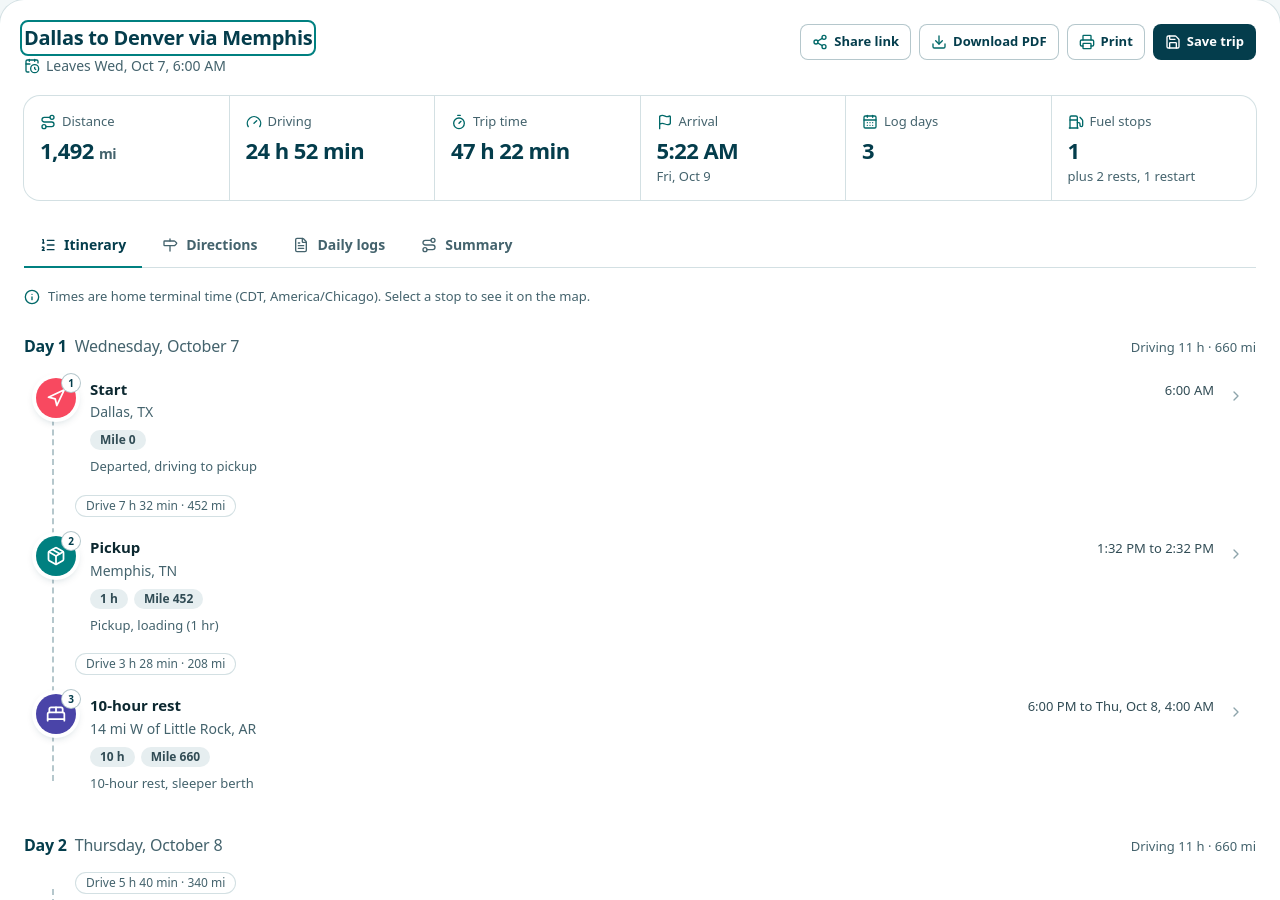
Test: summary tab › explains a restart and counts only hours since it
This screenshot has width=1280, height=900.
Click the tab with test id "tab-summary" at [467, 246], box [405, 224, 528, 268]
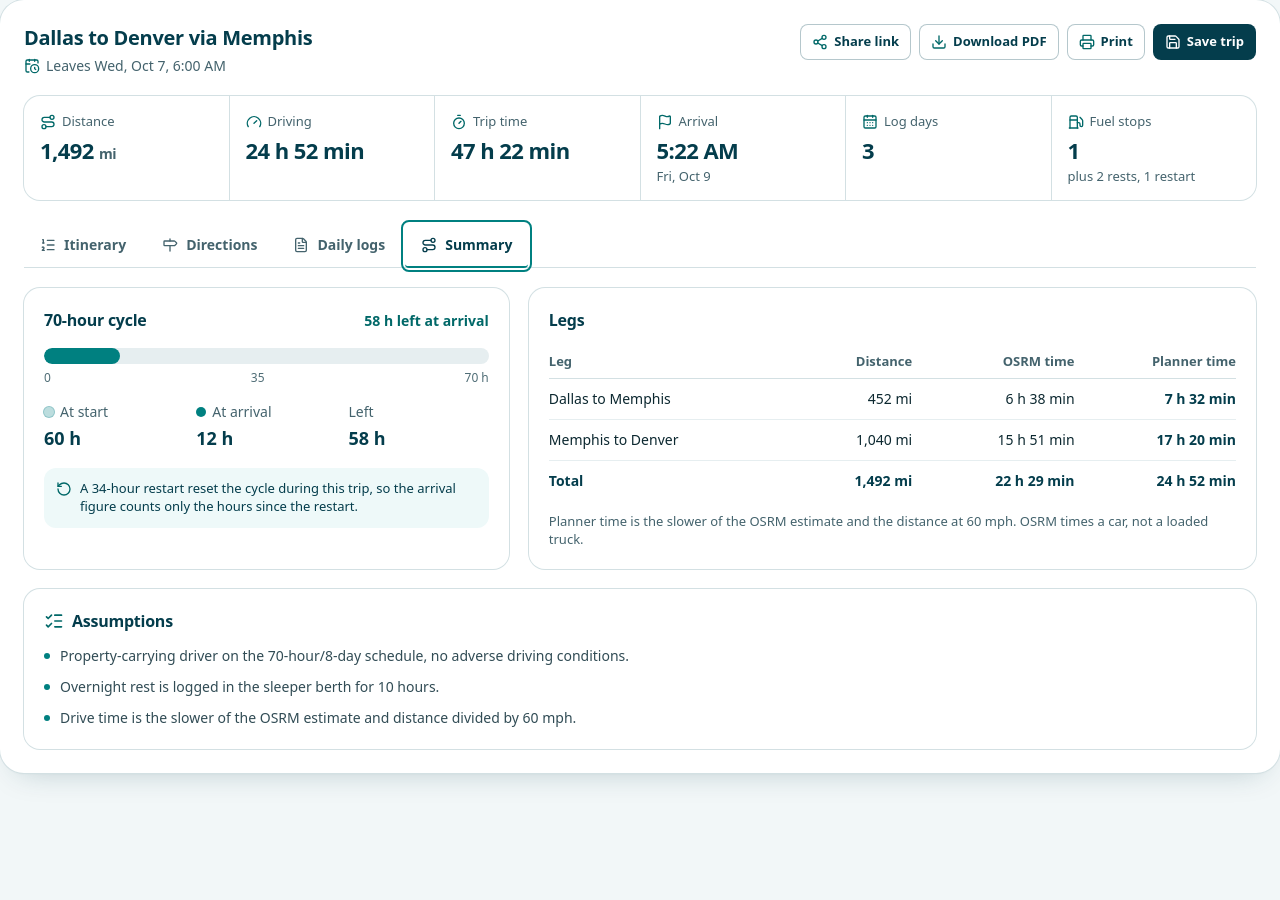
Expected: the element with test id "cycle-meter" shows "A 34-hour restart reset the cycle during this trip", [80, 479, 456, 515]
Expected: the element with test id "cycle-meter" shows "58 h left at arrival", [24, 288, 509, 569]
